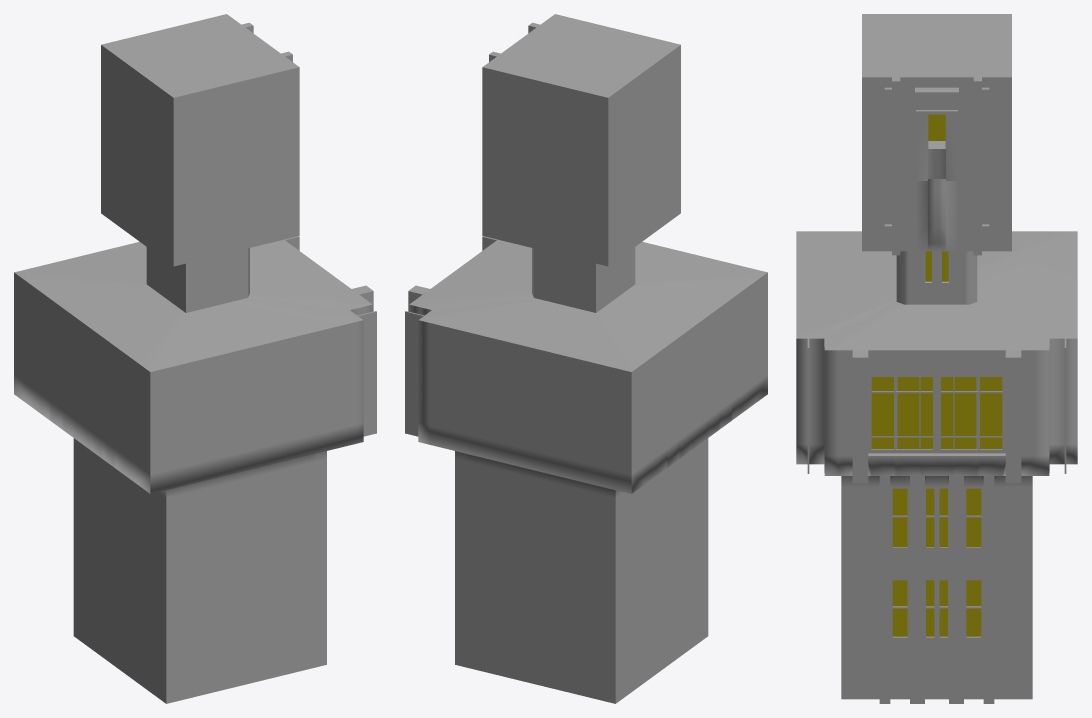
The model's file is building_1.fbx.
3 renders of one model, left to right at view 1: azimuth 30°, elevation 25°; view 2: azimuth 150°, elevation 25°; view 3: azimuth 270°, elevation 25°, orthographic. The views are drawn at different scales.
Visible parts, largest first — view 1: pCube1; view 2: pCube1; view 3: pCube1.
Boxes of the visible parts, x1=… form: pCube1: x1=14, y1=14, x2=376, y2=703; pCube1: x1=405, y1=14, x2=767, y2=703; pCube1: x1=796, y1=14, x2=1077, y2=703.
Size of the model in its own units: 1.56 by 3.54 by 1.47.
